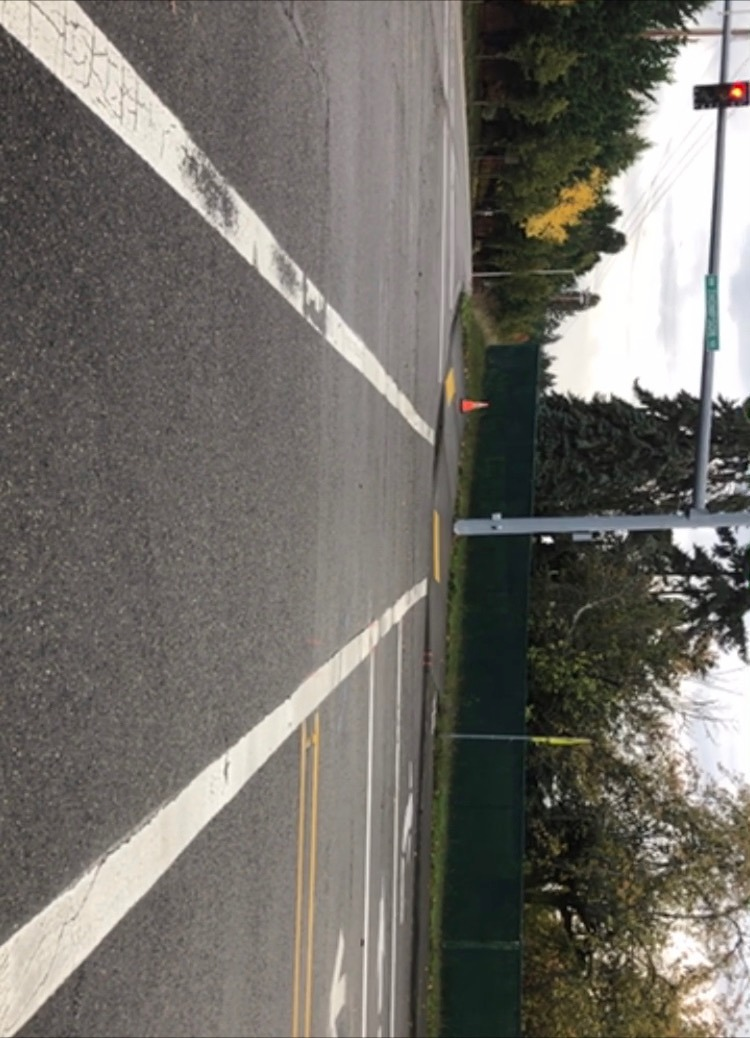crosswalk: (0, 73, 430, 939)
pedestrian_walk: (536, 533, 569, 564)
